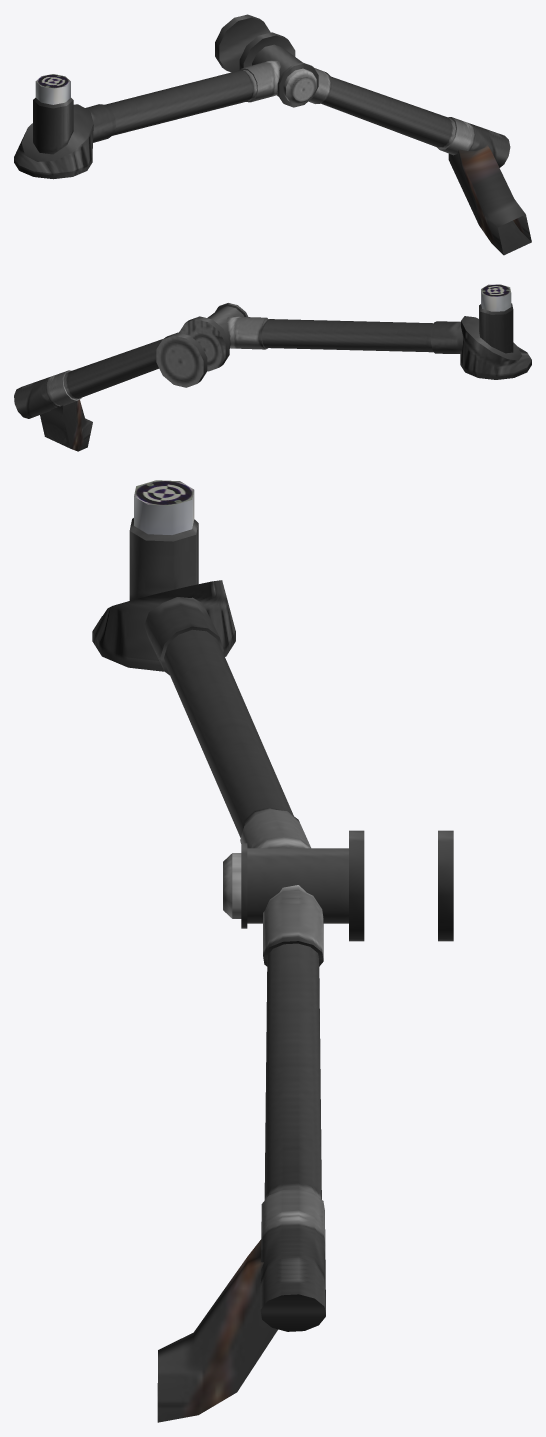
File: Body_BogieRight.dae
The picture shows the model from 3 angles, top to bottom: view 1: azimuth 30°, elevation 25°; view 2: azimuth 150°, elevation 25°; view 3: azimuth 270°, elevation 25°; orthographic projection. The views are drawn at different scales.
Visible parts, largest first — view 1: suspension_arm_B2_R; view 2: suspension_arm_B2_R; view 3: suspension_arm_B2_R.
Part boxes in pixels (left/top/right/bottom): suspension_arm_B2_R: left=14, top=14, right=531, bottom=255; suspension_arm_B2_R: left=14, top=284, right=531, bottom=451; suspension_arm_B2_R: left=92, top=480, right=453, bottom=1422.
Size of the model in its own units: 1.22 by 0.4003 by 0.6308.
2 materials, 2 textured.
